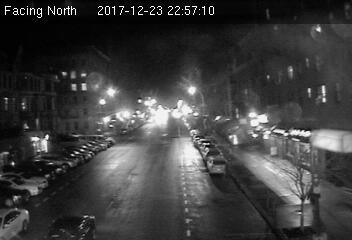car: (209, 158, 228, 175)
